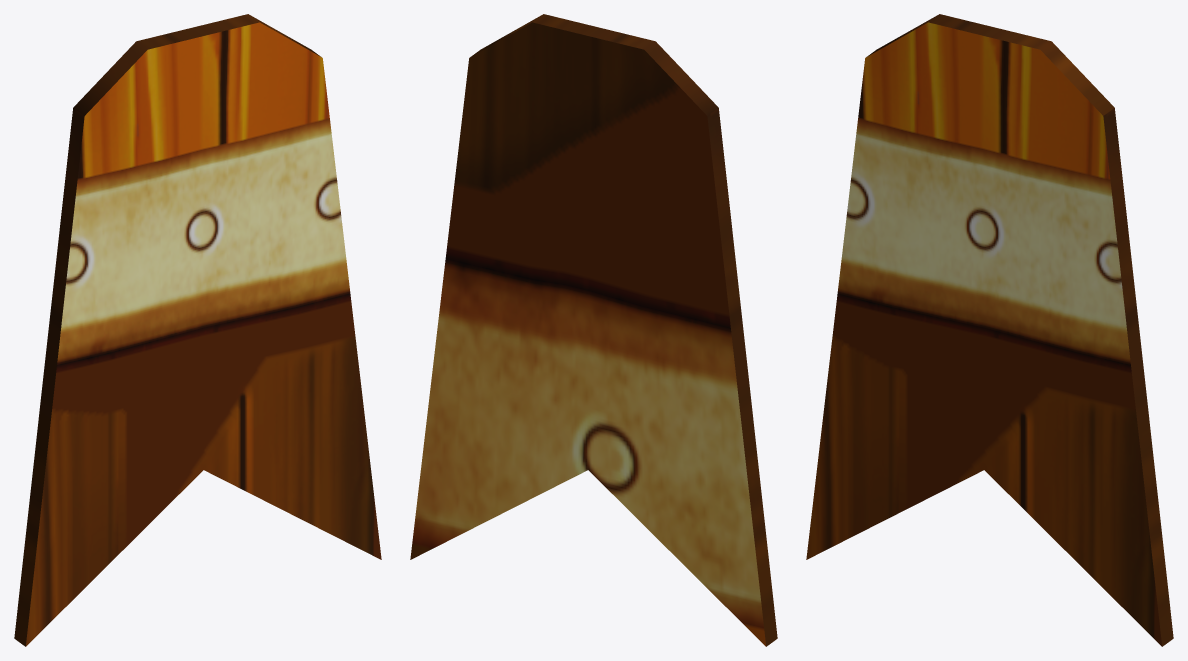
File: Tag_Special_07.fbx
The picture shows the model from 3 angles, left to right: view 1: azimuth 30°, elevation 25°; view 2: azimuth 150°, elevation 25°; view 3: azimuth 330°, elevation 25°; orthographic projection.
Visible parts, largest first — view 1: Tag_Special_07; view 2: Tag_Special_07; view 3: Tag_Special_07.
Boxes of the visible parts, <box> form: Tag_Special_07: <box>14,14,381,646</box>; Tag_Special_07: <box>410,14,777,646</box>; Tag_Special_07: <box>806,14,1173,646</box>.
Bounding box in the file's own units: 17.93 × 27.32 × 1.
Materials: 1 (1 with a texture image).
